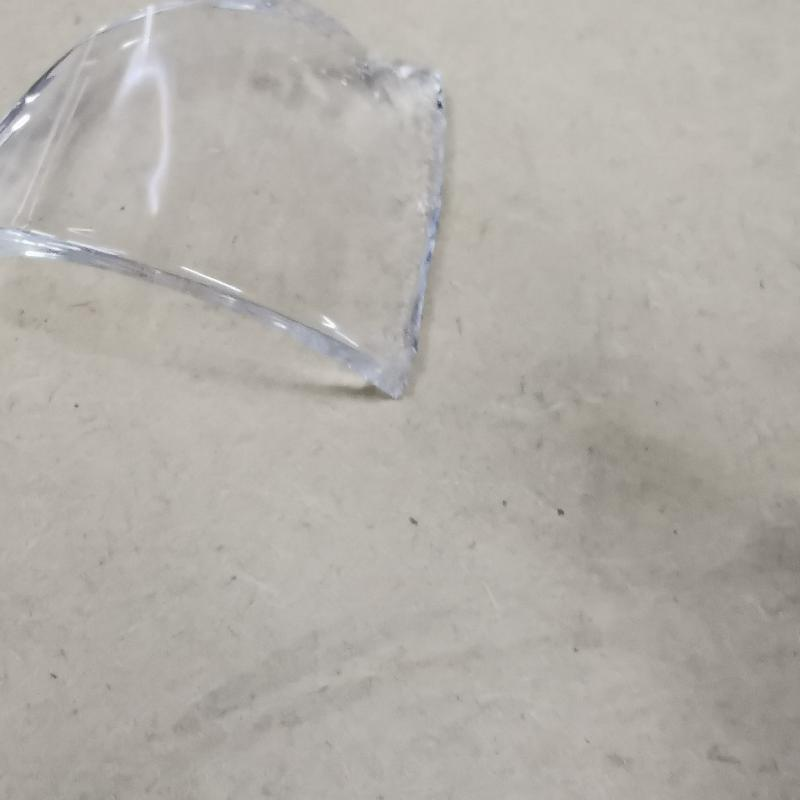glass: (3, 5, 452, 401)
